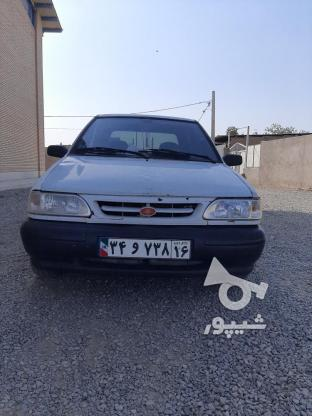car: (97, 237, 191, 260)
